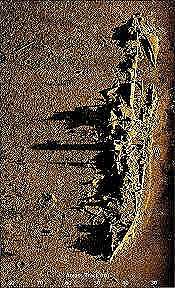ship: (94, 14, 160, 266)
